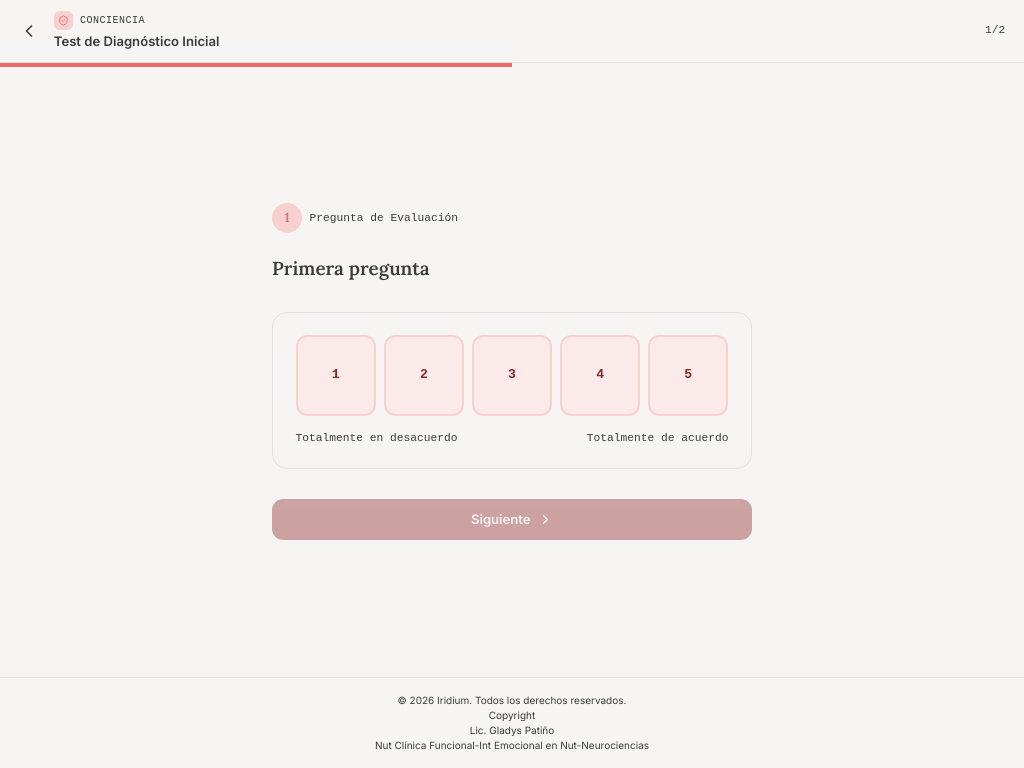
Test: un envío fallido conserva las respuestas y permite reintentar
Expected: the heading "Primera pregunta" is shown, [272,256,430,280]
Click the button named "4 de 5".
click(600, 375)  # box [560,335,640,416]
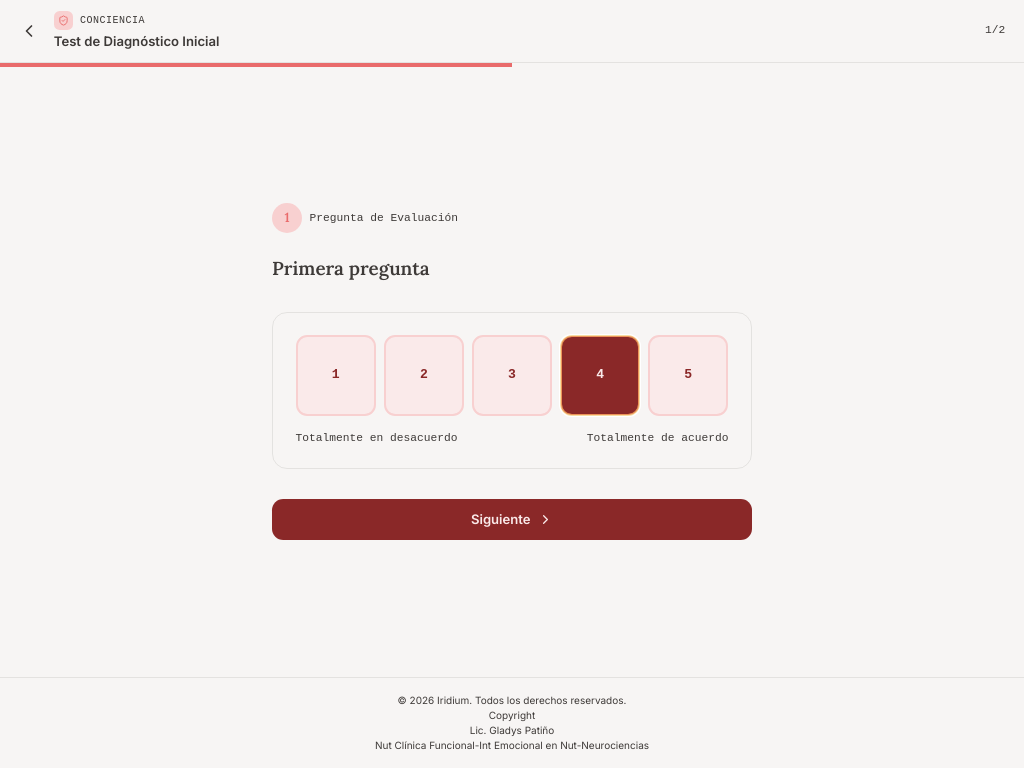
Click the button "Siguiente".
click(512, 520)  # box [272,499,752,540]
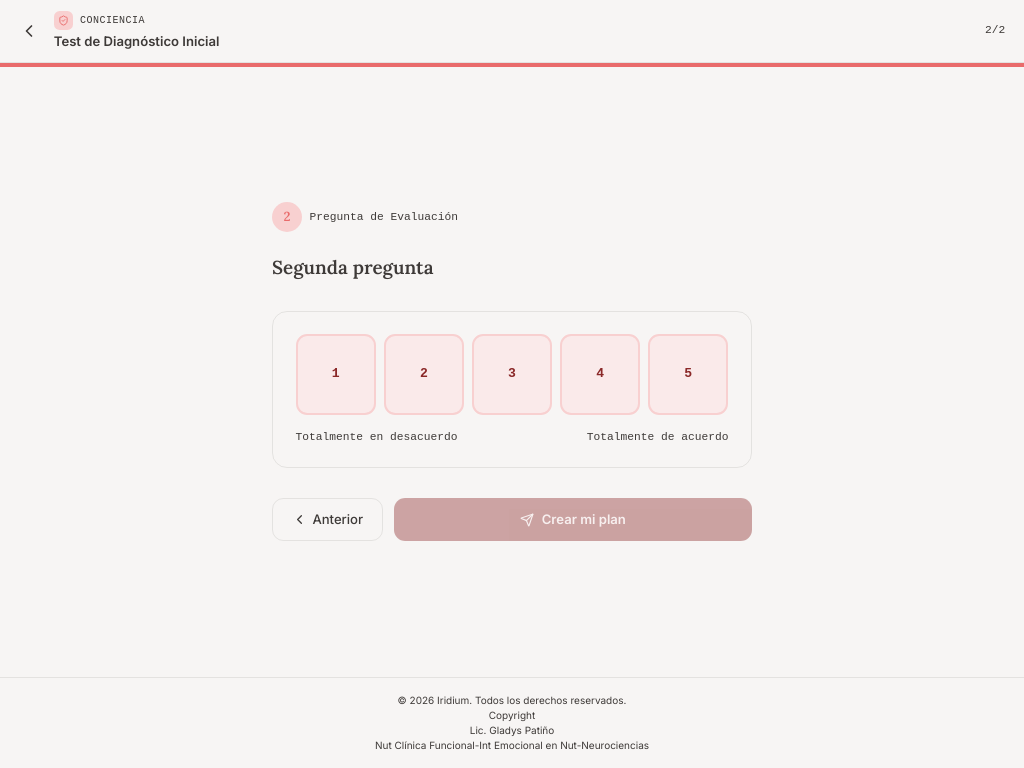
Click the button named "2 de 5".
click(424, 374)  # box [384,334,464,415]
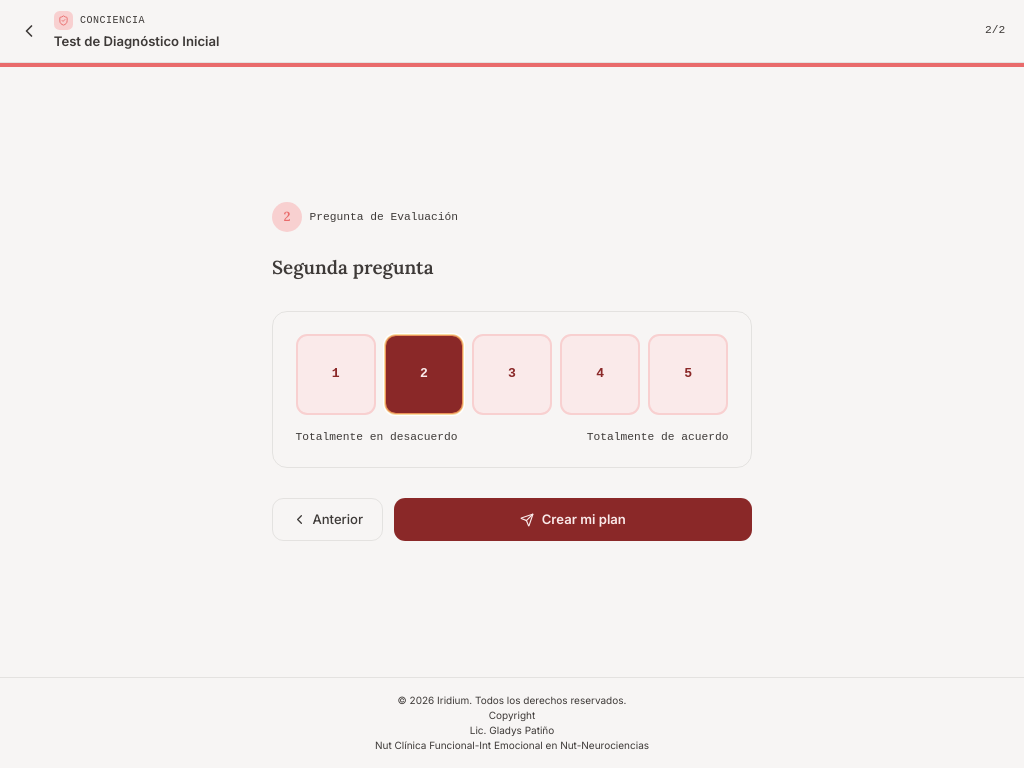
Click the button "Crear mi plan".
click(573, 520)  # box [394,498,752,541]
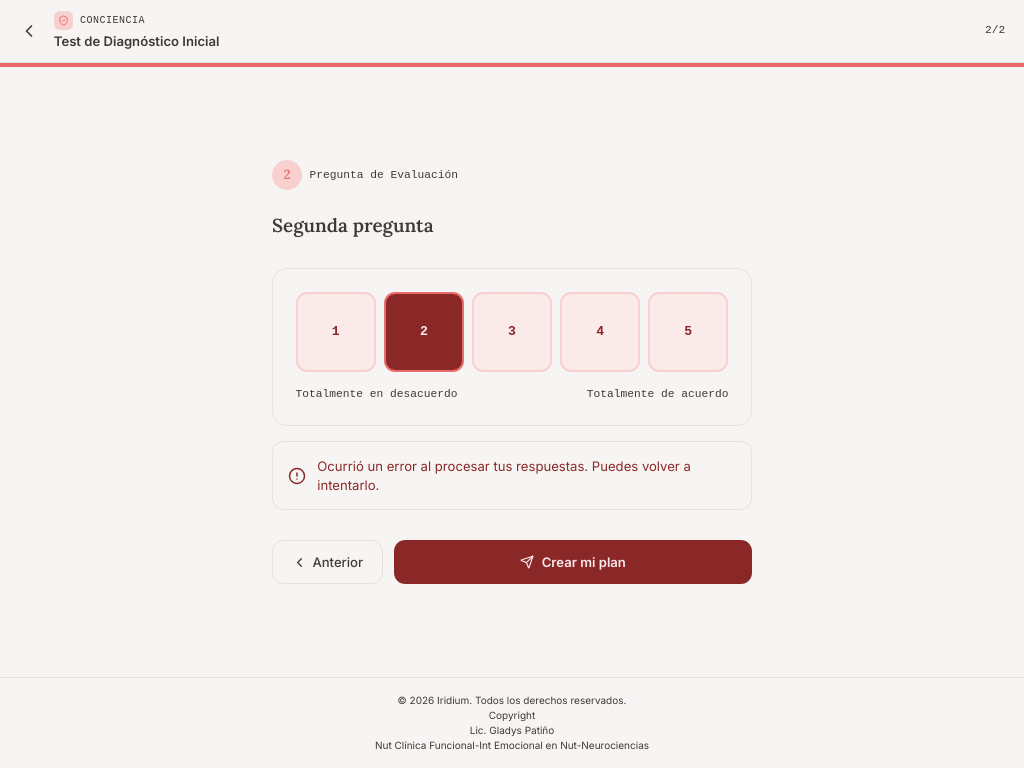
Expected: the heading "Segunda pregunta" is shown, [272,212,434,236]
Expected: the message shows "Puedes volver a intentarlo", [317,458,691,493]
Click the button "Crear mi plan".
click(573, 562)  # box [394,540,752,584]
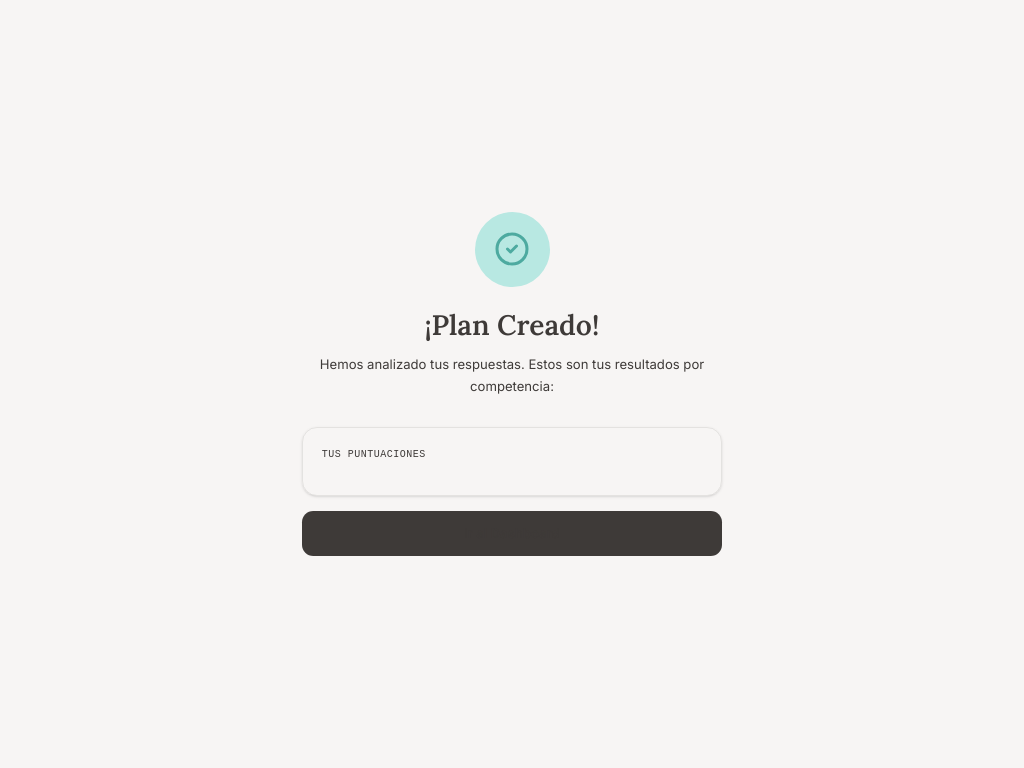
Expected: the heading "¡Plan Creado!" is shown, [425,307,599,343]
